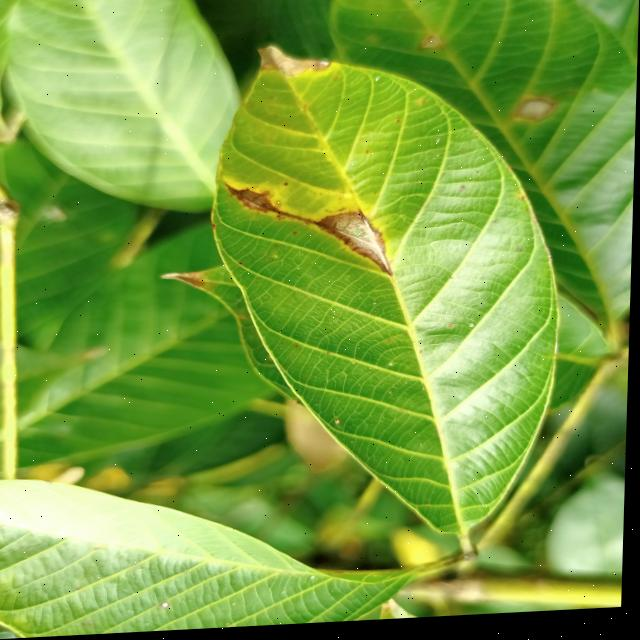Colletotrichum: (337, 423, 343, 428)
Corynespora: (225, 182, 314, 231)
Leaf-Blight: (331, 219, 393, 275), (258, 47, 333, 82)
